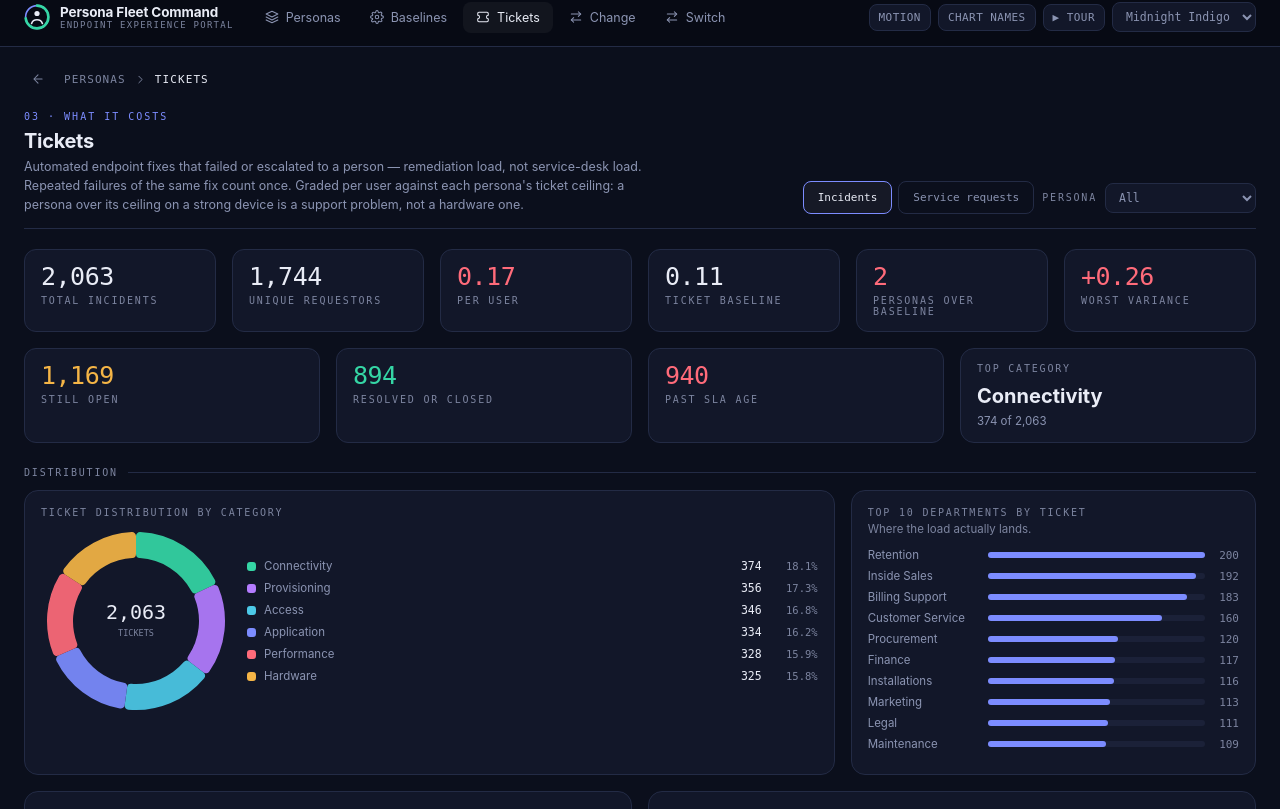
Test: service requests › switching mode shows request numbers, labels and statuses
Click the button "Service requests" at {"x": 966, "y": 198}, box [898, 181, 1034, 214]
(page scrolled)
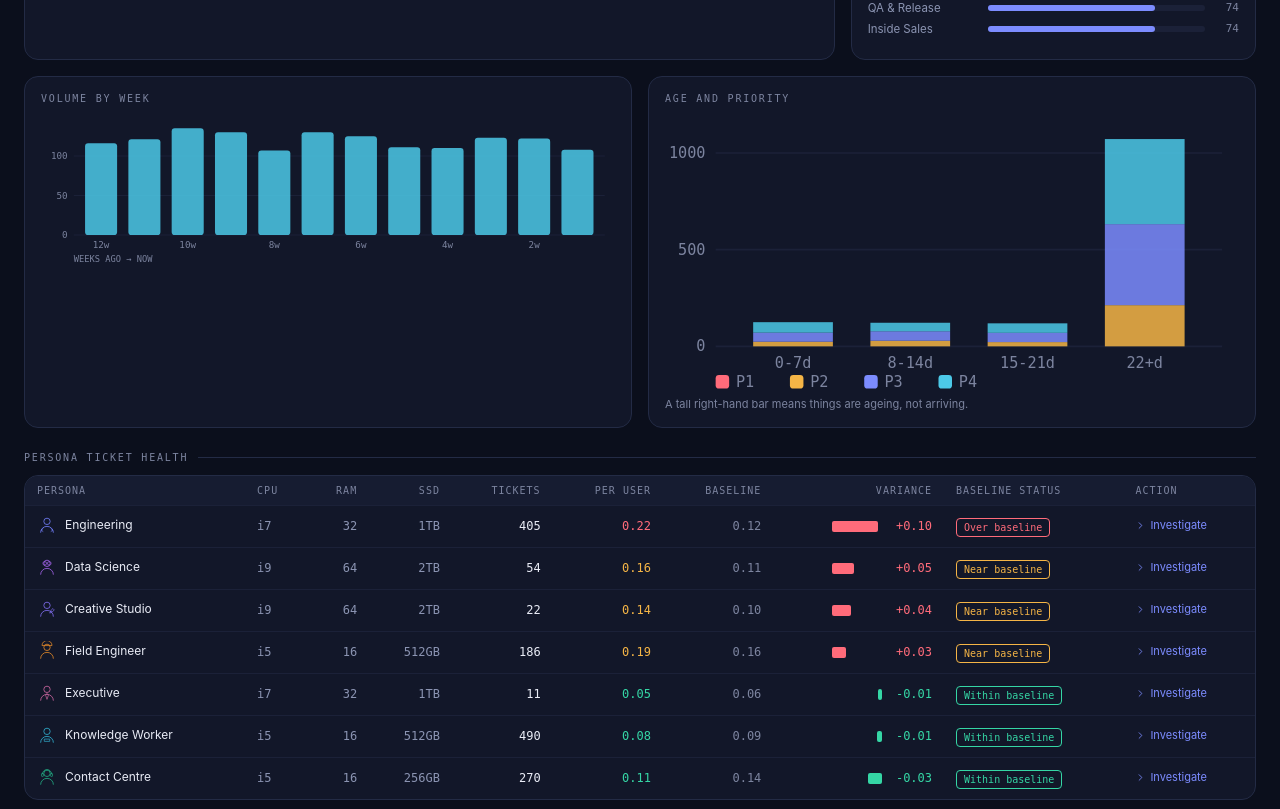
Result: the cell "405" is shown at [452, 505, 553, 547]
Result: the cell "0.22" is shown at [553, 505, 663, 547]
Result: the cell "Over baseline" is shown at [944, 505, 1123, 547]
